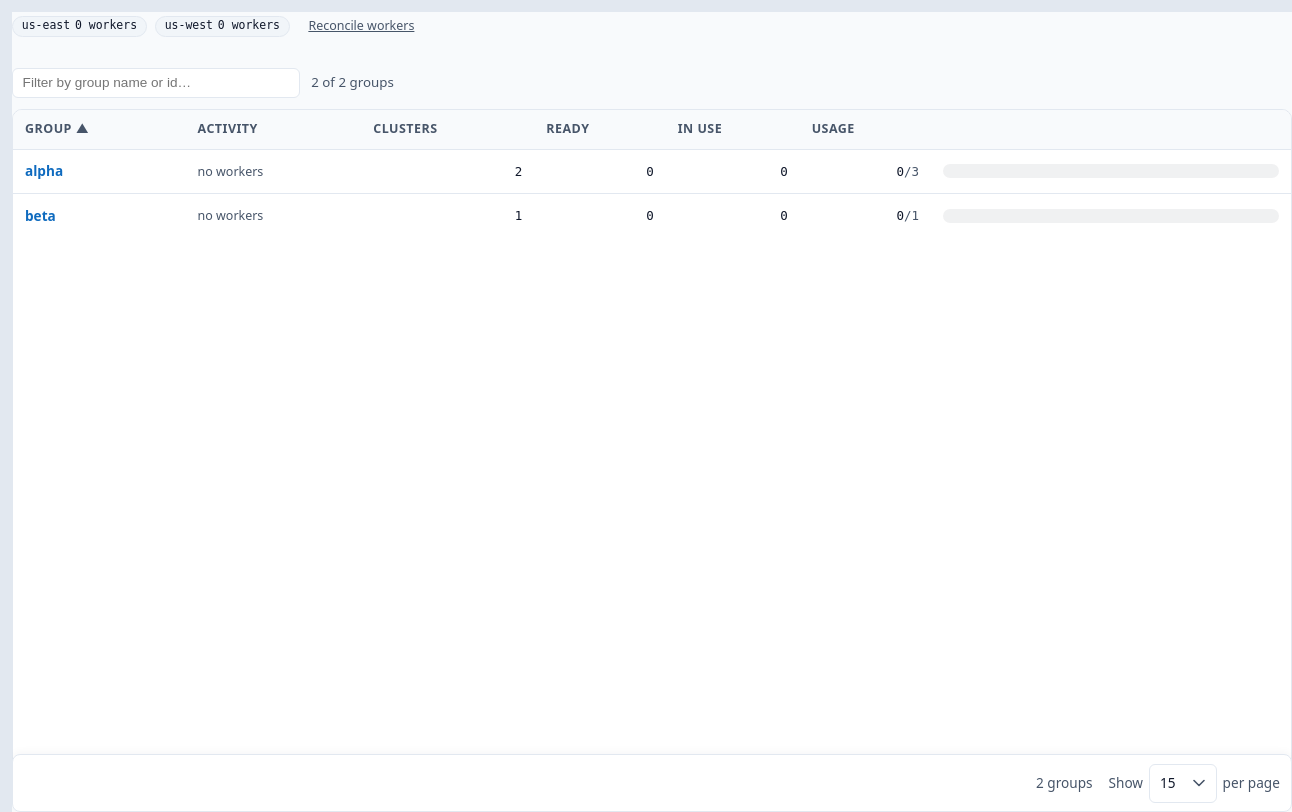
Test case: CapacityListPage — one row per application group › filters groups by name substring
The width and height of the screenshot is (1292, 812).
expect the link "alpha" is shown: met, box [25,161,63,180]
Type "bet" into the search field named "Filter groups by name or id" at (156, 83), box [12,68,300,98]
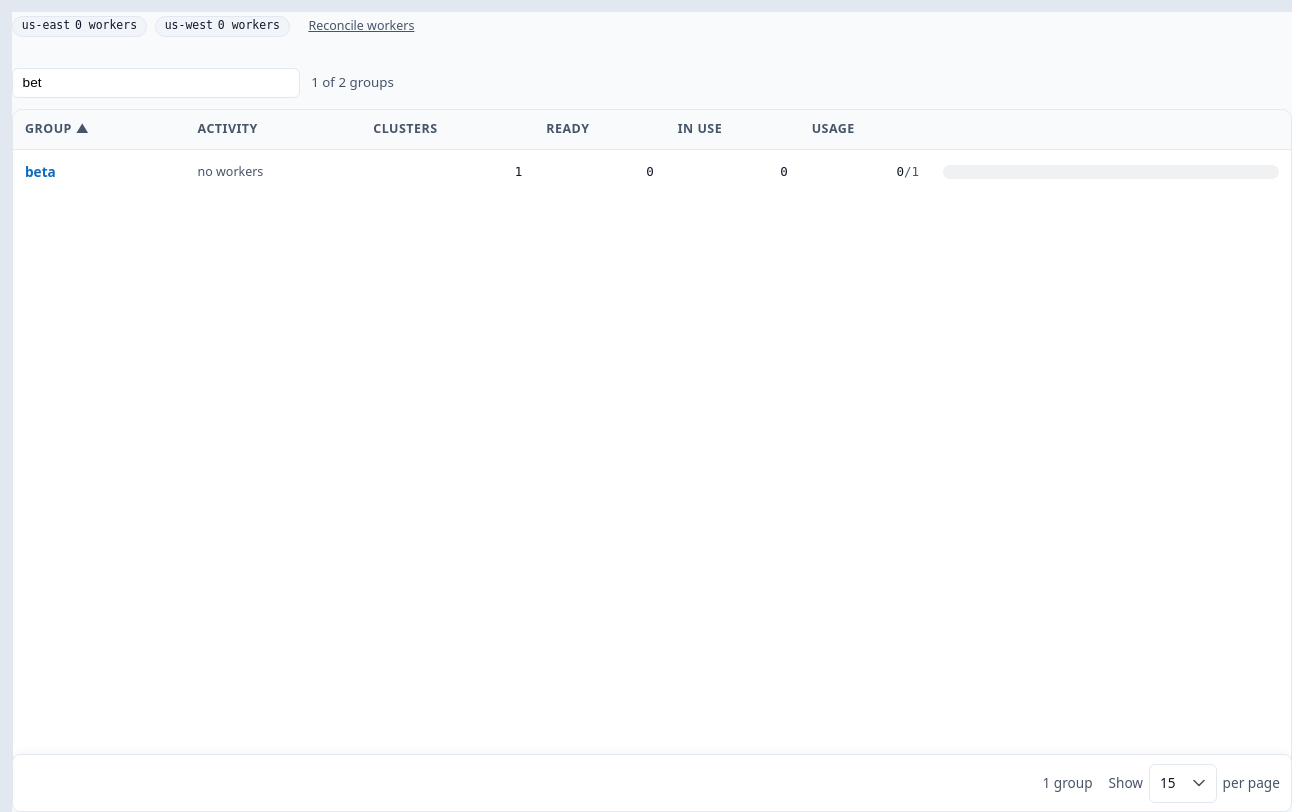
expect the link "beta" is shown: met, box [25,162,56,180]
expect the link "alpha" is gone: met
